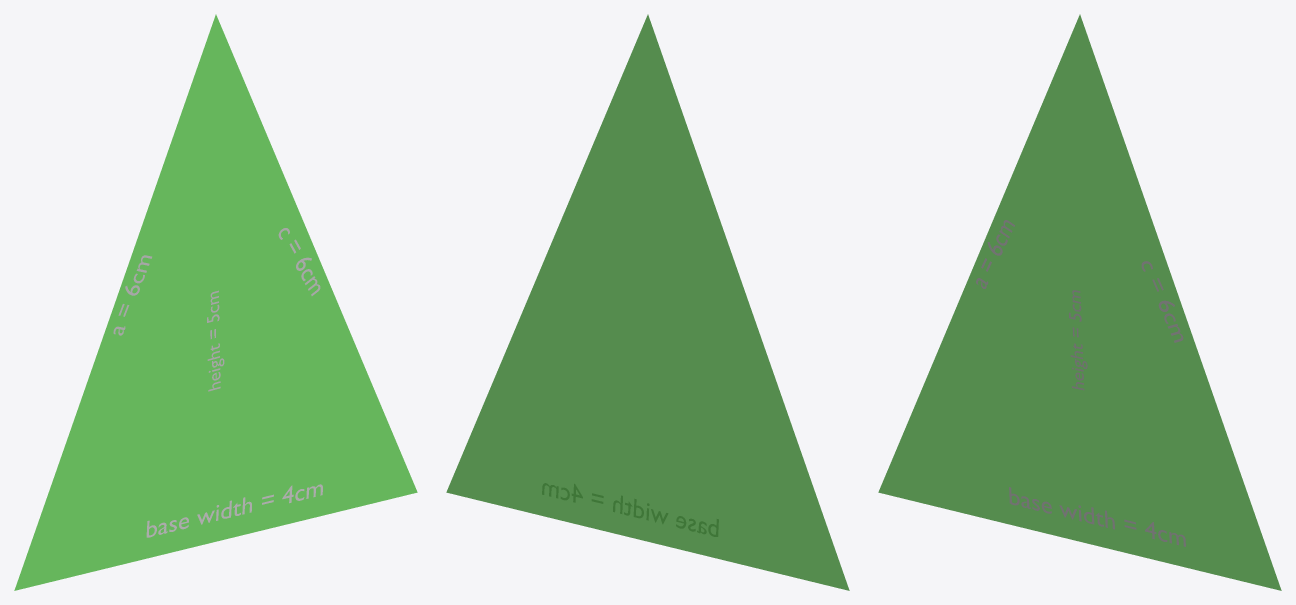
Rendered from triangle5x6x4.glb.
The picture shows the model from 3 angles, left to right: view 1: azimuth 30°, elevation 25°; view 2: azimuth 150°, elevation 25°; view 3: azimuth 330°, elevation 25°; orthographic projection.
Parts seen in each view (by area): view 1: Cone, base with; view 2: Cone, base with; view 3: Cone, base with.
Boxes of the visible parts, x1,y1,x2,y2 form: Cone: (14, 14, 417, 590); base with: (146, 484, 322, 537); Cone: (446, 14, 849, 590); base with: (542, 483, 718, 536); Cone: (878, 14, 1281, 590); base with: (1009, 487, 1185, 546).
Size of the model in its own units: 0.4 by 0.5 by 0.00208.
